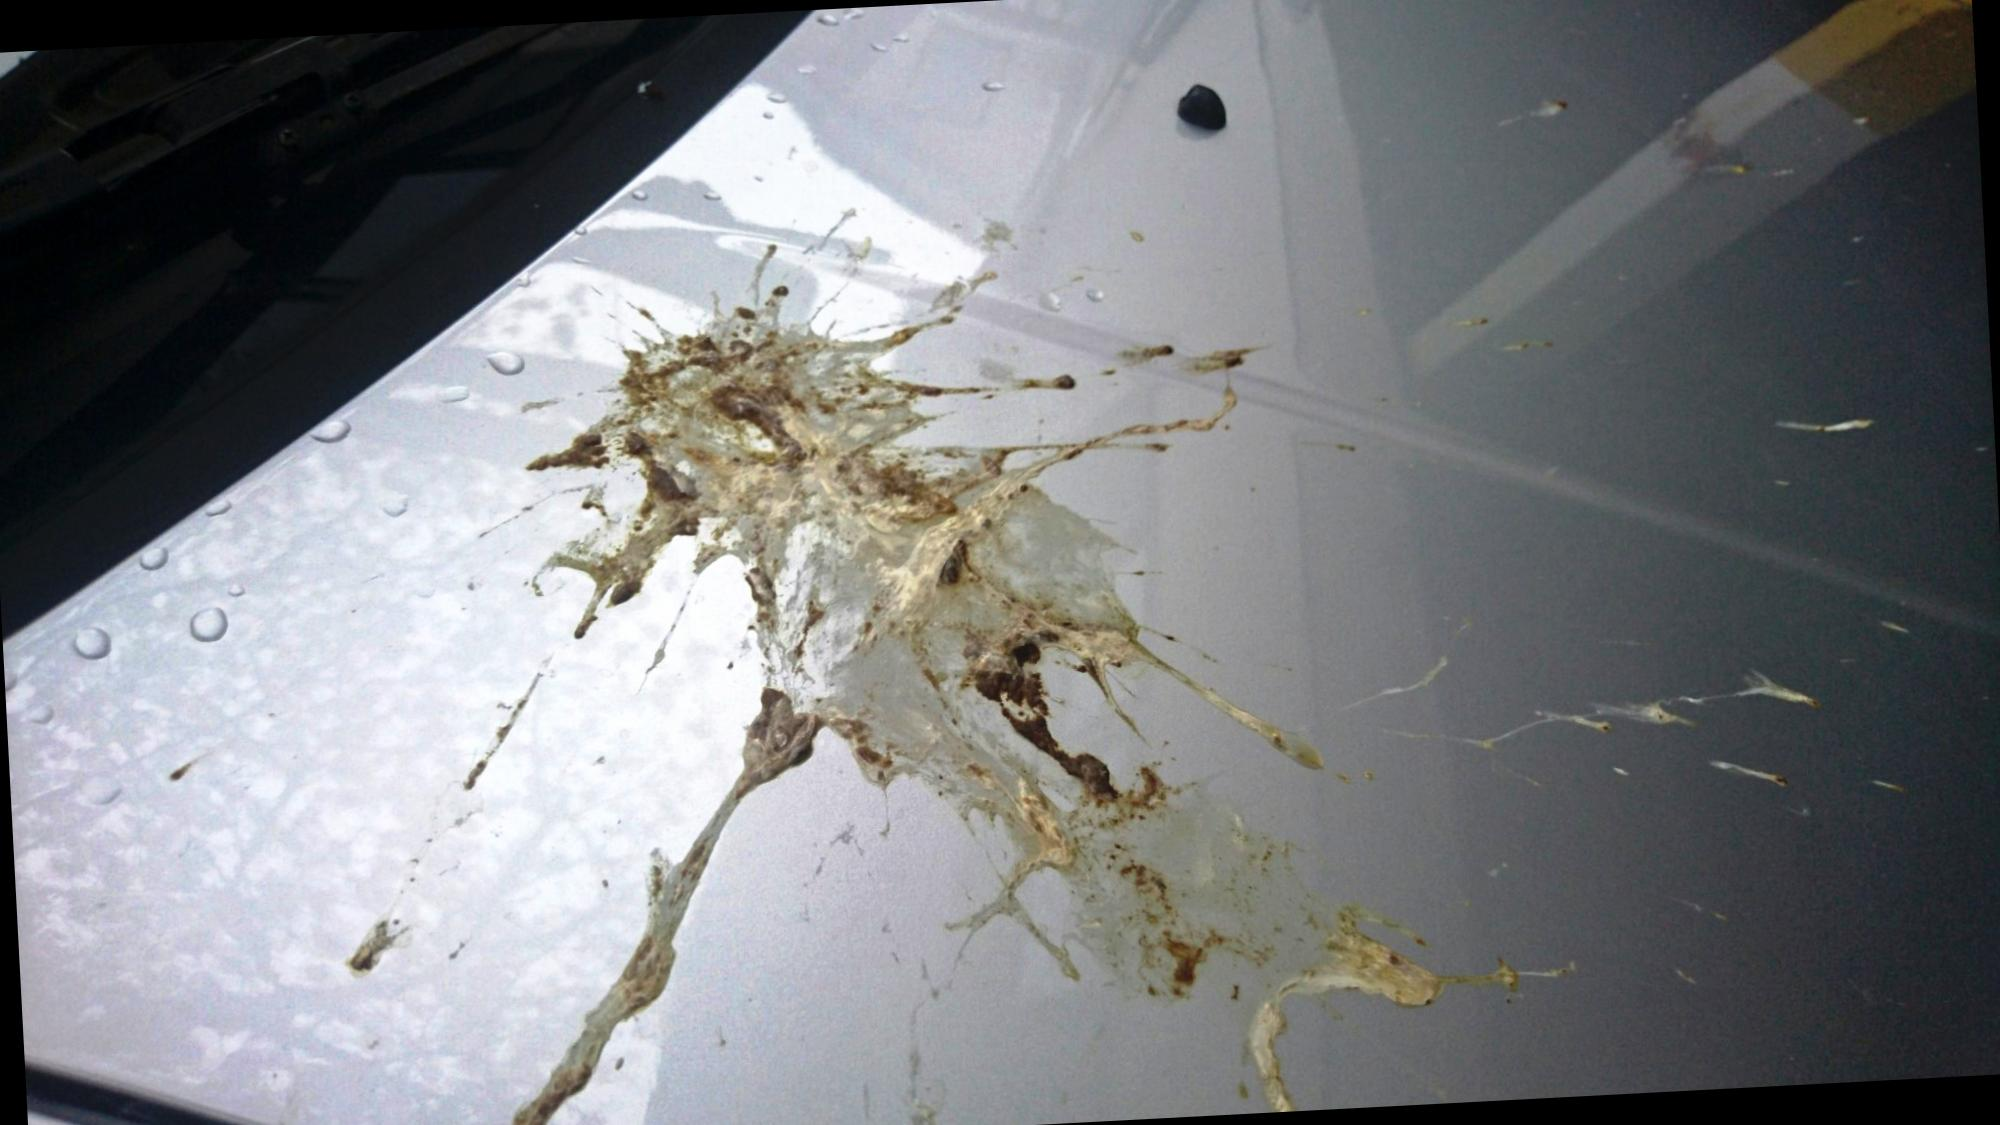Bird Poop: (512, 308, 1455, 1125), (1397, 670, 1819, 749), (462, 659, 551, 790), (1657, 104, 1751, 177), (1099, 343, 1261, 375), (348, 902, 409, 974), (1776, 419, 1875, 433), (900, 385, 1001, 397), (1005, 375, 1078, 391), (1532, 100, 1567, 117), (766, 286, 790, 306), (427, 821, 448, 843)
